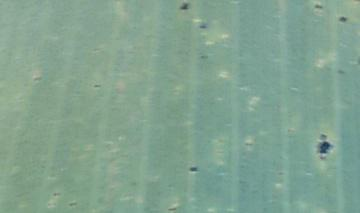tarspot: (319, 134, 331, 158), (188, 165, 199, 173), (179, 2, 189, 10), (313, 3, 323, 10), (32, 75, 42, 82), (339, 16, 348, 23), (53, 190, 62, 197), (68, 200, 77, 207), (336, 68, 345, 74), (167, 206, 177, 211), (201, 53, 208, 60), (92, 82, 100, 88), (245, 141, 253, 147), (198, 25, 207, 29)
